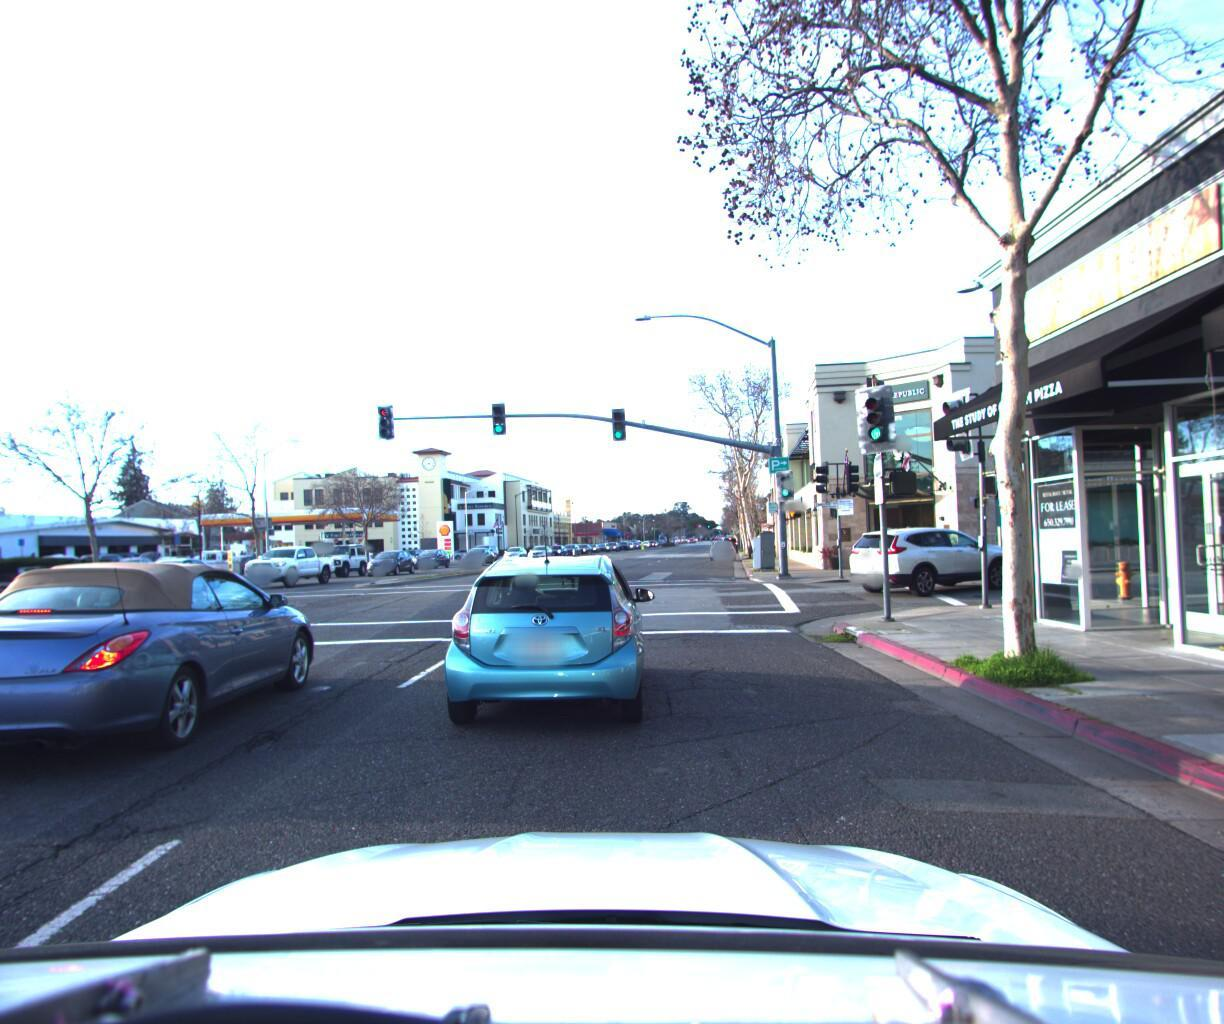car: (0, 553, 335, 814), (436, 539, 650, 744), (0, 550, 58, 796), (844, 519, 1016, 592), (108, 550, 228, 599), (234, 540, 336, 588), (176, 545, 247, 579), (313, 540, 374, 576), (359, 543, 421, 575), (408, 542, 453, 565), (456, 543, 497, 566), (706, 535, 733, 558), (499, 541, 527, 558), (524, 539, 551, 555)
